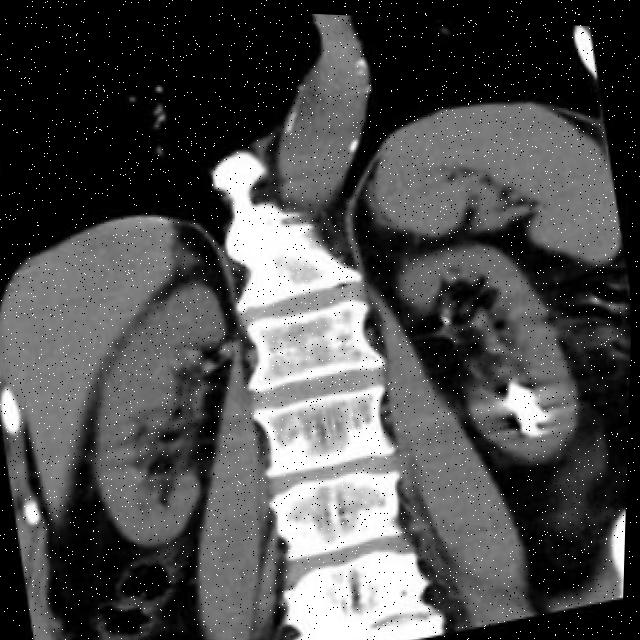Tas_Var: (496, 358, 564, 447), (436, 311, 451, 326), (442, 298, 454, 314)
